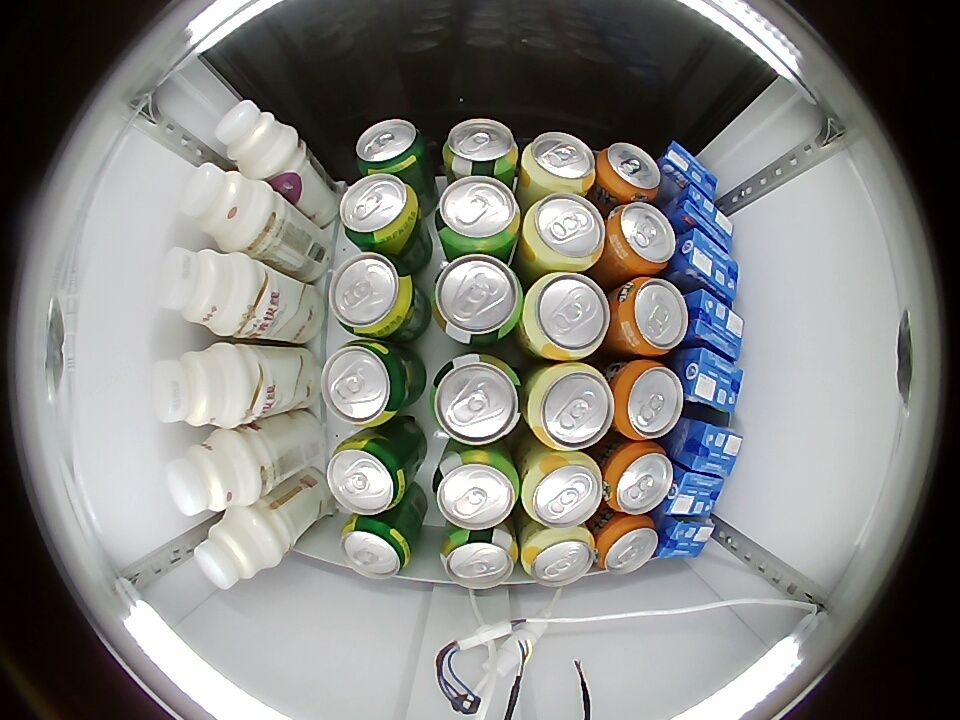fenda: (613, 360, 684, 440), (617, 277, 688, 356), (608, 202, 676, 275), (605, 442, 673, 515), (597, 142, 661, 201), (596, 516, 659, 574)
mangguoxiaolao: (525, 362, 614, 451), (522, 272, 610, 361), (522, 193, 606, 271), (521, 452, 603, 529), (521, 132, 596, 193), (522, 528, 596, 587)
quchenshixiangcao: (430, 353, 522, 446), (431, 255, 524, 345), (432, 449, 520, 530), (434, 176, 521, 254), (440, 529, 518, 590), (441, 118, 519, 177)
weitanai: (674, 227, 740, 302), (679, 347, 744, 414), (685, 289, 745, 361), (675, 421, 744, 480), (671, 185, 735, 247), (659, 140, 719, 201), (663, 468, 726, 517), (658, 515, 715, 559)
xuebi2: (321, 340, 415, 426), (329, 253, 421, 339), (326, 432, 416, 515), (339, 173, 422, 250), (340, 515, 416, 579), (355, 119, 430, 177)
yingyangkuaixian: (157, 247, 256, 337), (150, 343, 249, 428), (165, 429, 260, 516), (180, 164, 272, 251), (195, 507, 284, 590), (215, 100, 298, 179)
